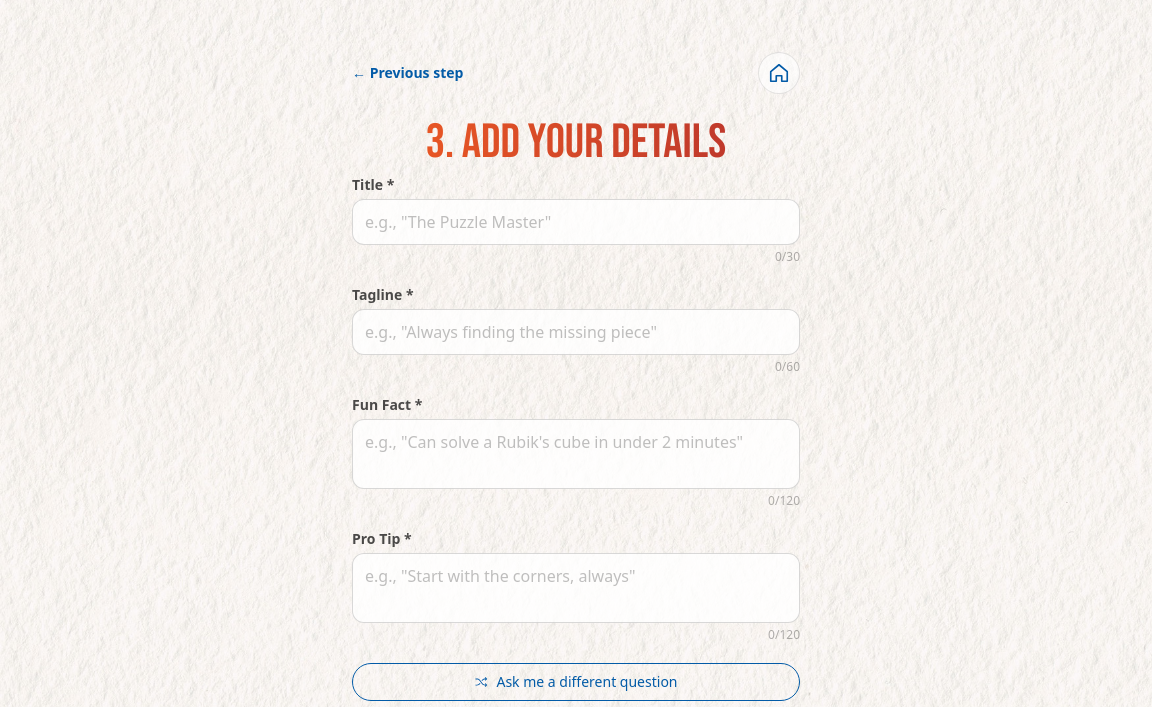
TextEntry › submit button enables when all fields have content
Step 1. Type "Title" into the field with test id "field-title" → (576, 222), box [352,199,800,245]
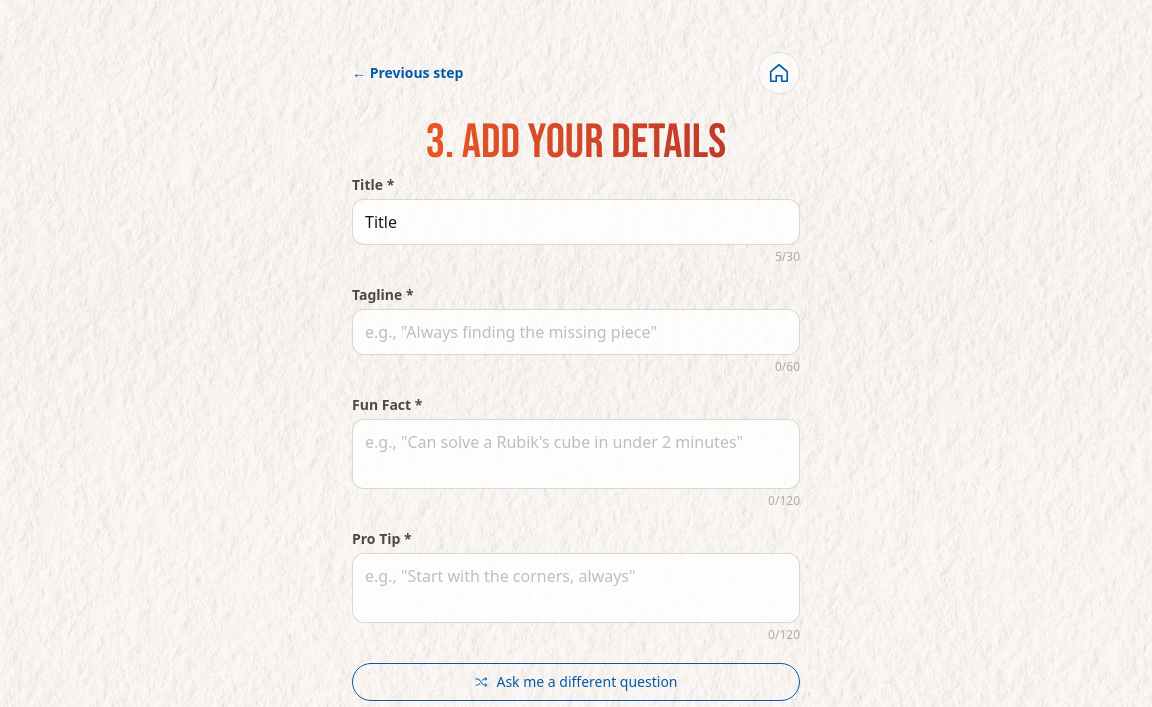
Step 2. Type "Tagline" into the field with test id "field-tagline" → (576, 332), box [352,309,800,355]
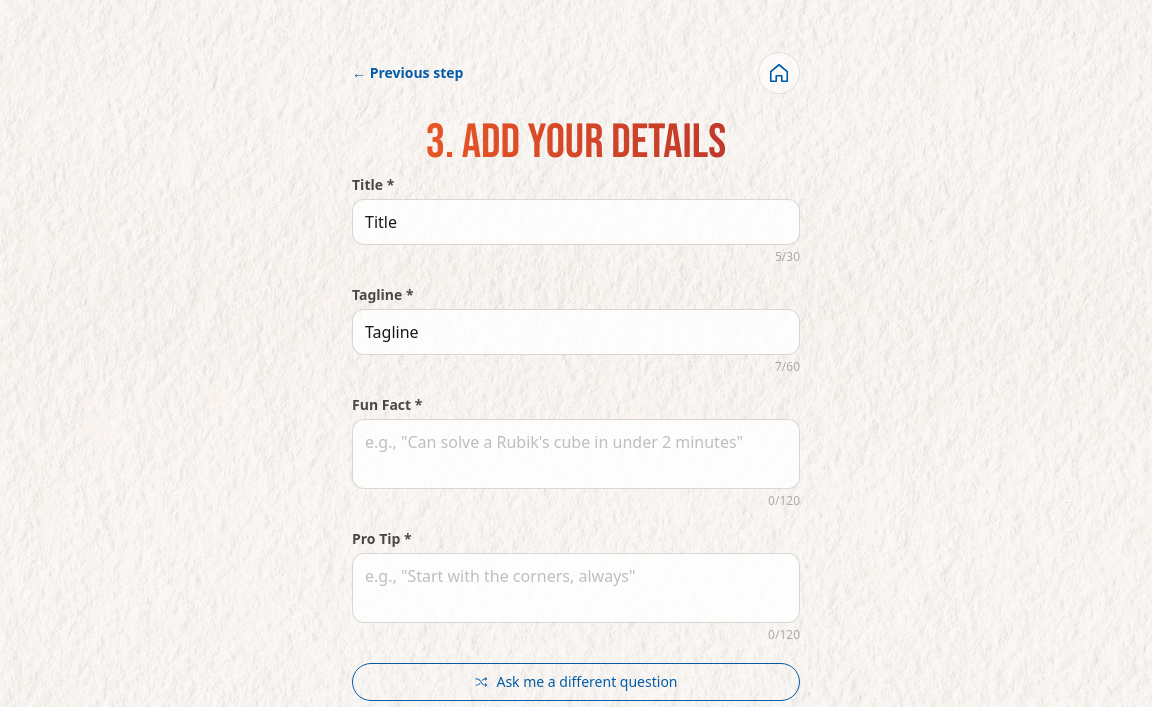
Step 3. Type "Fun fact" into the text box with test id "field-funFact" → (576, 454), box [352,419,800,489]
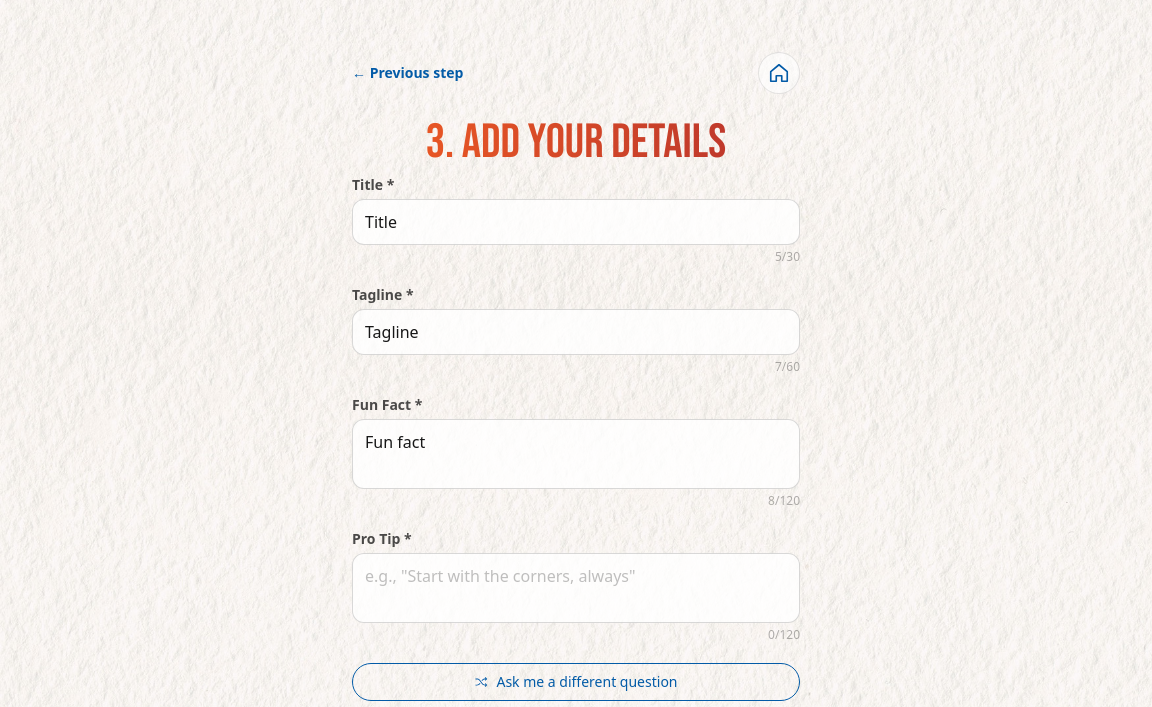
Step 4. Type "Pro tip" into the text box with test id "field-proTip" → (576, 588), box [352,553,800,623]
(page scrolled)
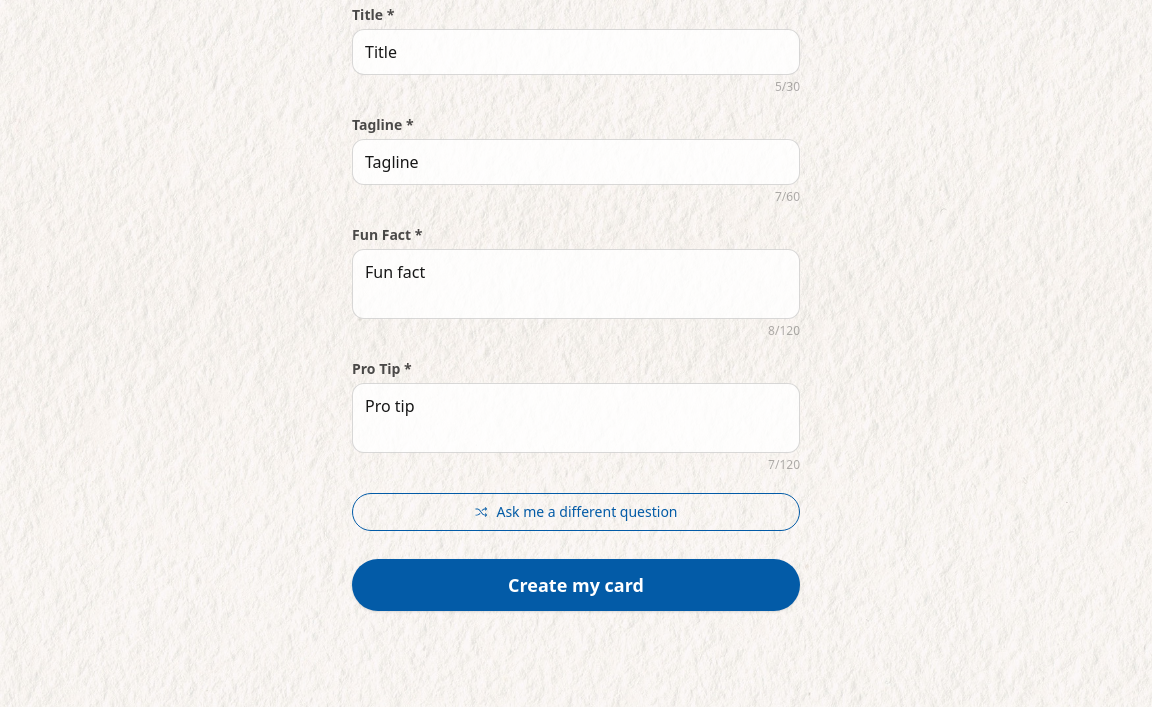
Expected: the button with test id "submit-button" is enabled, [352,559,800,611]
